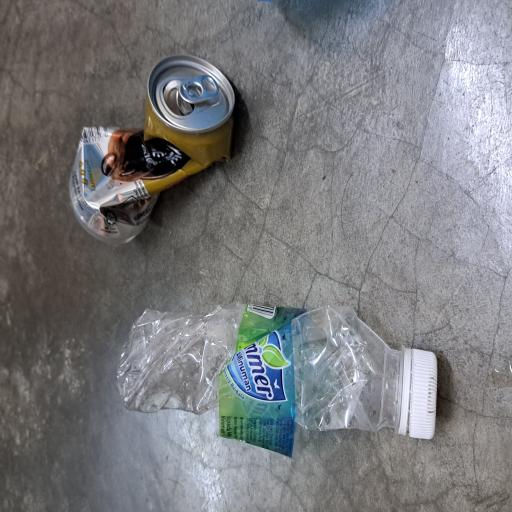can: (200, 90, 344, 315)
plastic bottle: (40, 152, 158, 512)
pop tab: (307, 239, 328, 292)
